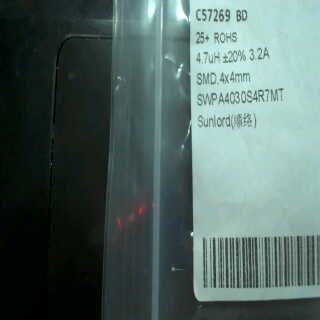4.7uH: (196, 48, 220, 68)
